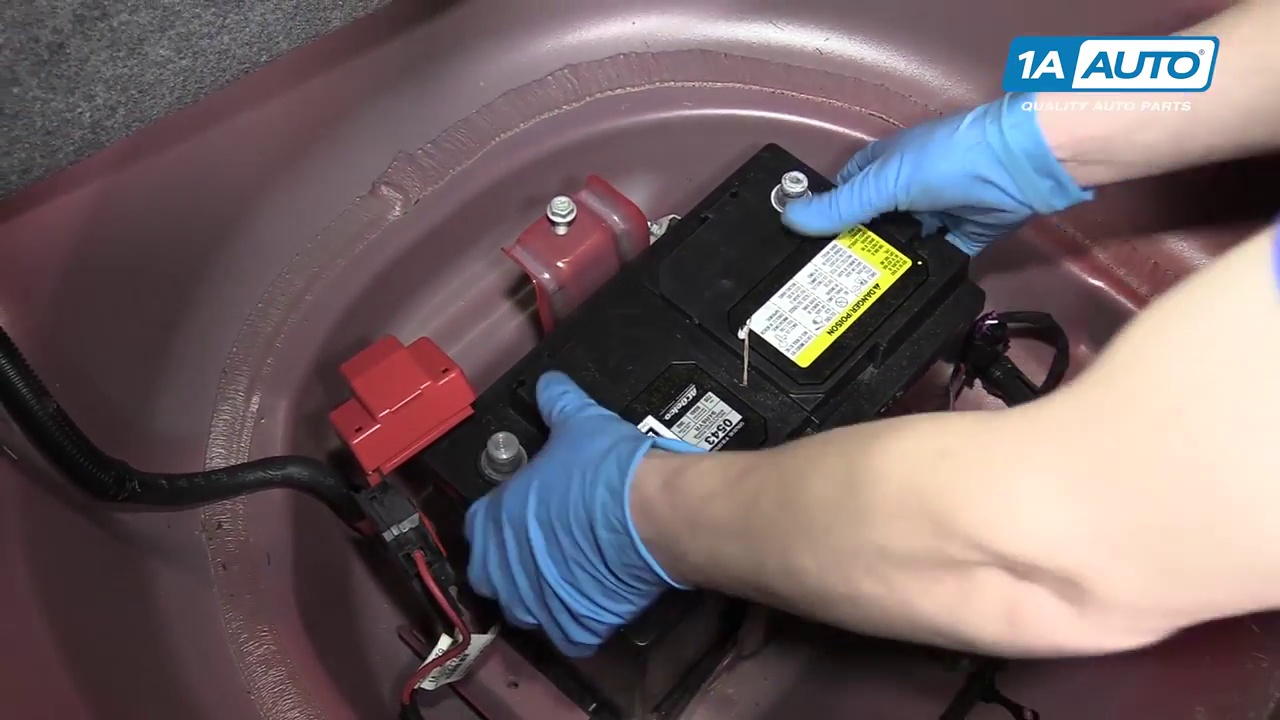battery: (410, 145, 962, 664)
neg_disconnected: (742, 147, 840, 237)
neg_touched: (762, 153, 937, 255)
pos_disconnected: (325, 327, 538, 501)
pos_touched: (348, 318, 602, 571)
